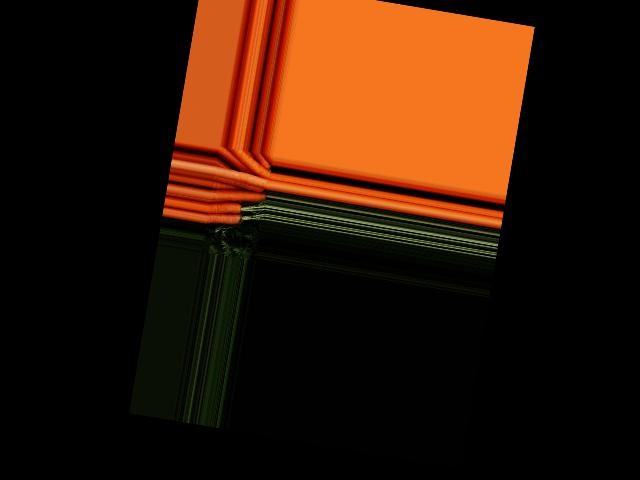carrot: (226, 148, 272, 177)
